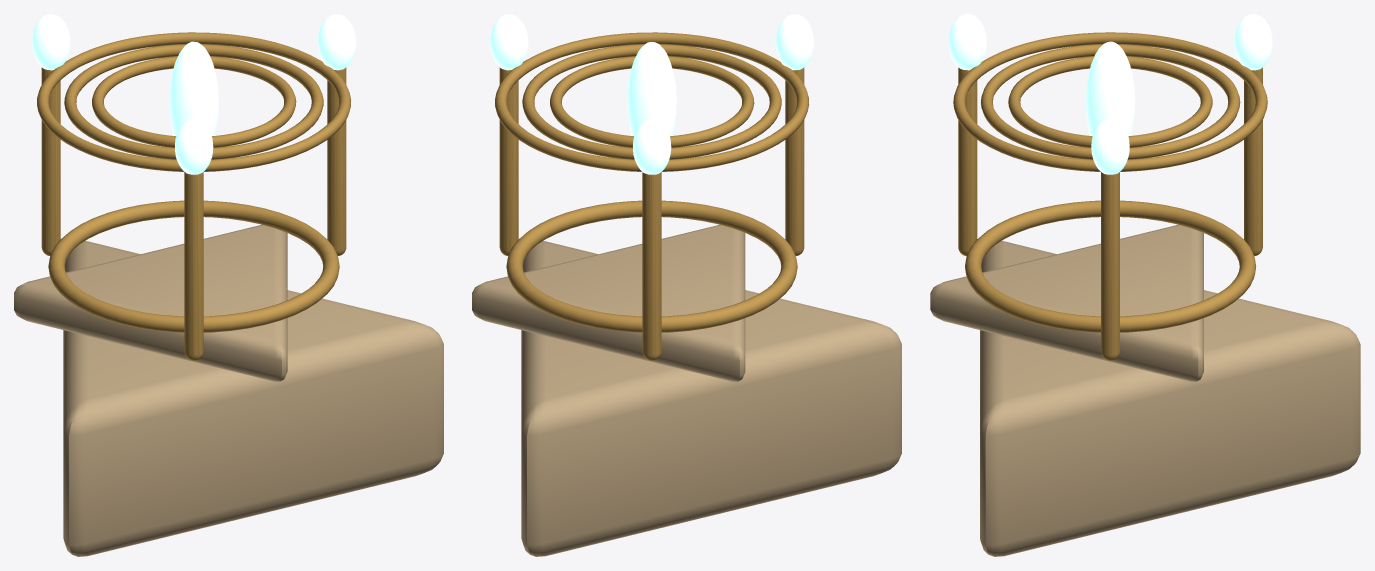
Rendered from ward_anchor.glb.
The picture shows the model from 3 angles, left to right: view 1: azimuth 30°, elevation 25°; view 2: azimuth 150°, elevation 25°; view 3: azimuth 270°, elevation 25°; orthographic projection.
Parts seen in each view (by area): view 1: Base, Step, Collar, RingMesh_0, RingMesh_1, RingMesh_2, Pillar_2, ShardMesh, Pillar_1, Pillar_0, NodeMesh_2, NodeMesh_0 (+1 smaller); view 2: Base, Step, Collar, RingMesh_0, RingMesh_1, RingMesh_2, Pillar_1, ShardMesh, Pillar_0, Pillar_2, NodeMesh_1, NodeMesh_2 (+1 smaller); view 3: Base, Step, Collar, RingMesh_0, RingMesh_1, RingMesh_2, ShardMesh, Pillar_0, Pillar_2, Pillar_1, NodeMesh_0, NodeMesh_1 (+1 smaller).
Part boxes in pixels (x1,y1,x2,y2): Base: [63, 241, 443, 556]; Step: [14, 224, 287, 381]; Collar: [48, 200, 339, 332]; RingMesh_0: [37, 32, 351, 171]; RingMesh_1: [64, 44, 323, 159]; RingMesh_2: [92, 56, 296, 147]; Pillar_2: [184, 172, 203, 360]; ShardMesh: [169, 41, 218, 135]; Pillar_1: [41, 67, 60, 255]; Pillar_0: [327, 67, 346, 255]; NodeMesh_2: [175, 118, 213, 174]; NodeMesh_0: [317, 14, 355, 70]; Base: [521, 241, 901, 556]; Step: [472, 224, 745, 381]; Collar: [506, 200, 797, 332]; RingMesh_0: [495, 32, 809, 171]; RingMesh_1: [522, 44, 781, 159]; RingMesh_2: [550, 56, 754, 147]; Pillar_1: [642, 172, 661, 360]; ShardMesh: [627, 42, 676, 136]; Pillar_0: [499, 67, 518, 256]; Pillar_2: [785, 67, 804, 255]; NodeMesh_1: [633, 118, 671, 174]; NodeMesh_2: [775, 14, 813, 70]; Base: [980, 241, 1360, 556]; Step: [930, 224, 1203, 381]; Collar: [965, 200, 1256, 332]; RingMesh_0: [953, 32, 1267, 171]; RingMesh_1: [980, 44, 1240, 159]; RingMesh_2: [1008, 56, 1212, 147]; ShardMesh: [1085, 41, 1134, 136]; Pillar_0: [1101, 172, 1119, 360]; Pillar_2: [958, 67, 977, 256]; Pillar_1: [1244, 67, 1262, 256]; NodeMesh_0: [1091, 118, 1129, 174]; NodeMesh_1: [1234, 14, 1272, 70].
Size of the model in its own units: 1.58 by 1.74 by 1.56.
